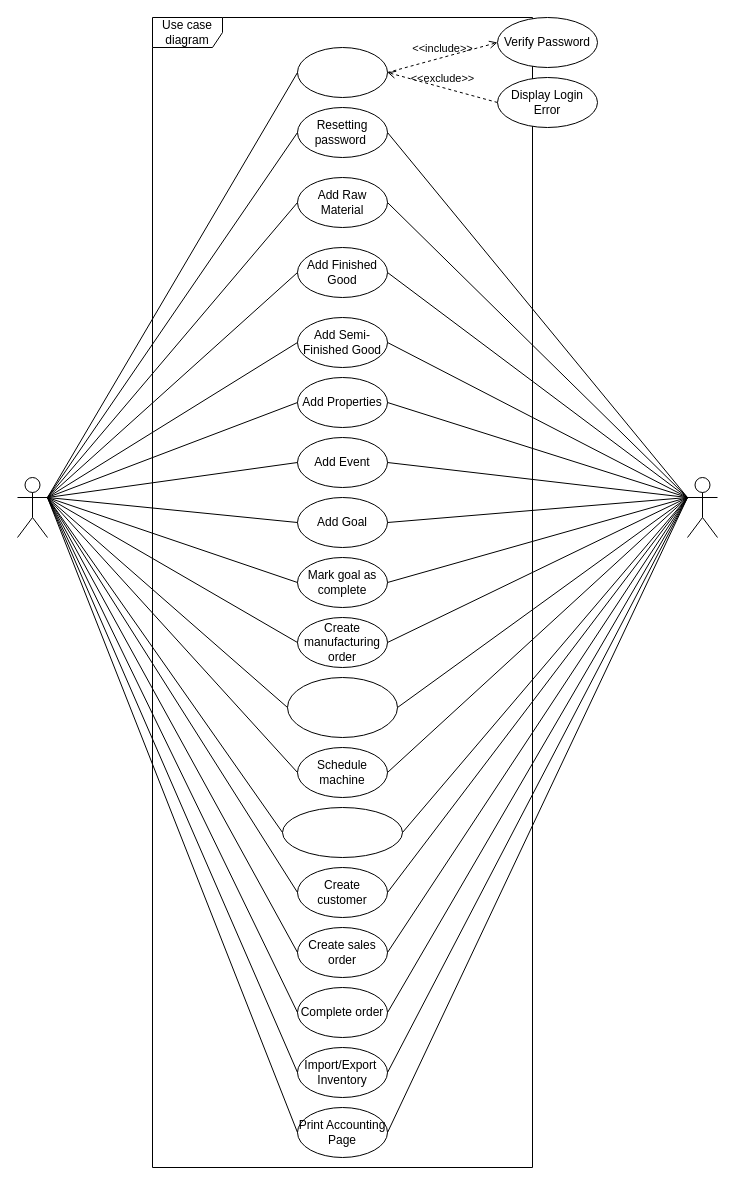
Image size: 740x1185. Some labels were removed from this diagram. The centre of each missing label's shape, as x and y in pixels:
"Logging in" goes at (x=342, y=72).
"Mark manufacturing order as completed" goes at (x=342, y=832).
"Start manufacturing order production" goes at (x=342, y=707).
"System" goes at (x=702, y=507).
"User" goes at (x=32, y=507).
